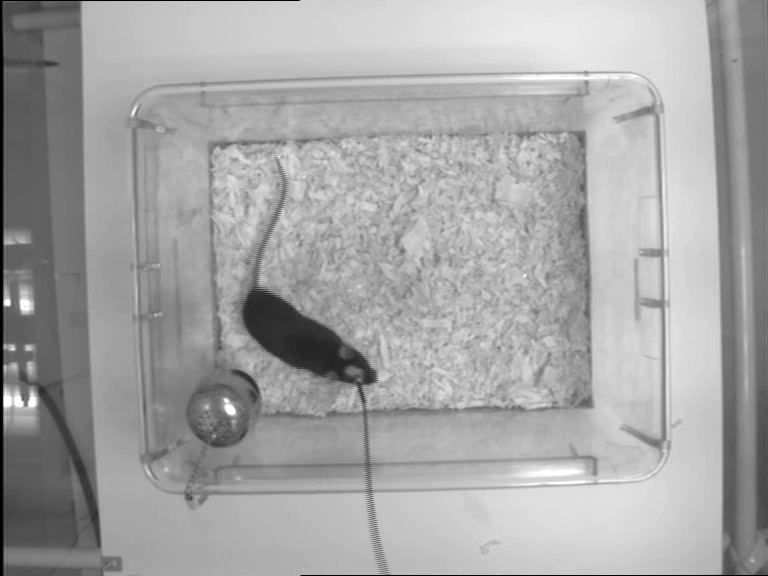mice: (238, 155, 382, 389)
